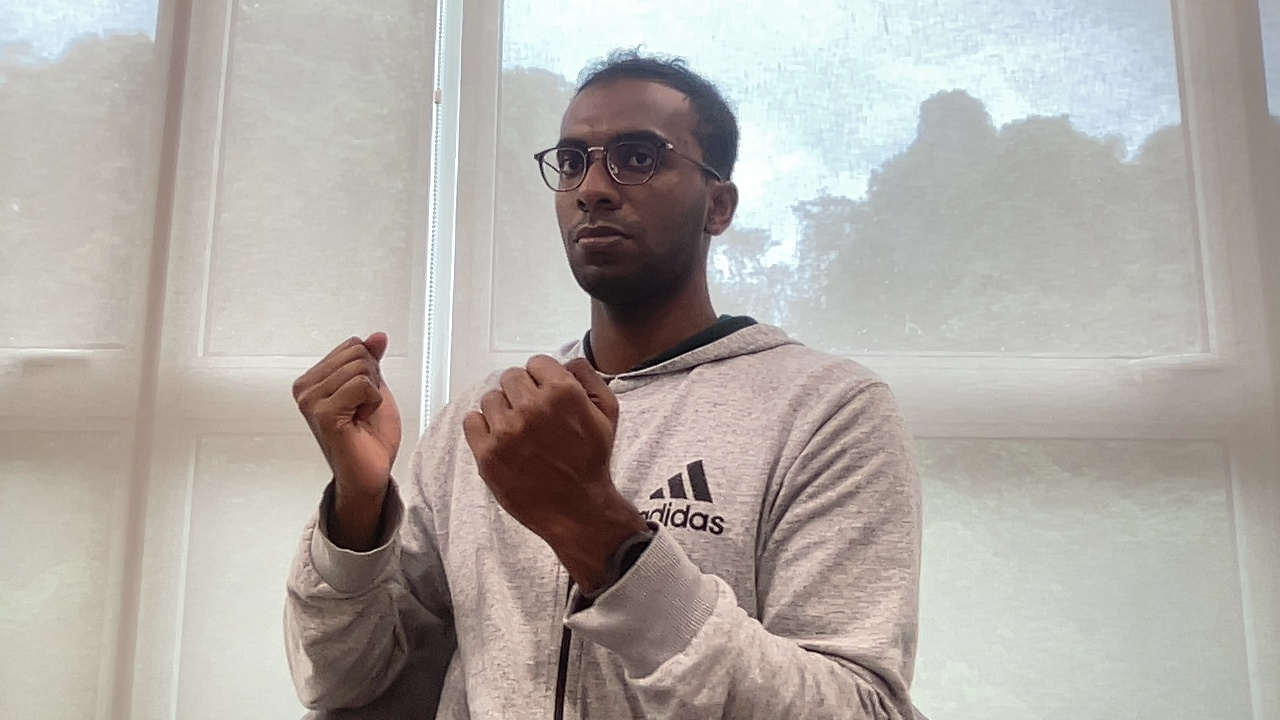finish: (290, 324, 632, 530)
